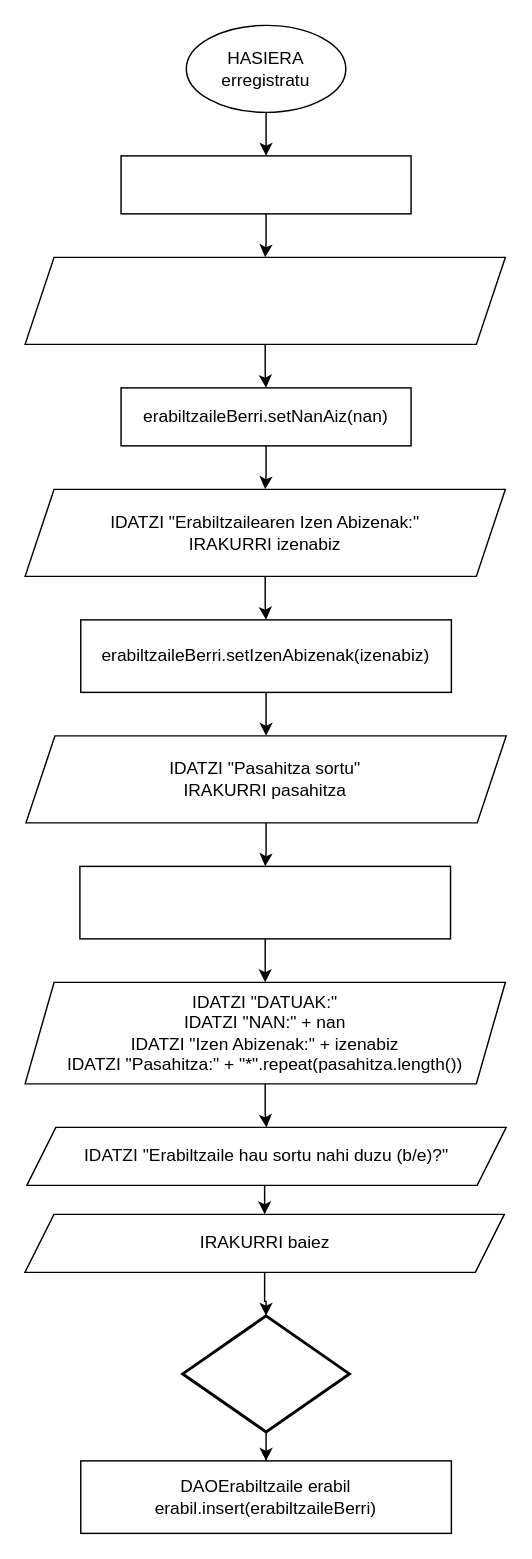
This 532x1559 diagram has some shape labels left out. Each missing label, with the centre of its shape:
baiez: [265,1373]
Erabiltzaile erabiltzaileBerri: [265,184]
erabiltzaileBerri.setPasahitza(pasahitza ): [264,902]
IDATZI "ERABILTZAILE BERRIA ESKATU" IDATZI "Erabiltzailearen NAN:" IRAKURRI nan: [264,300]
